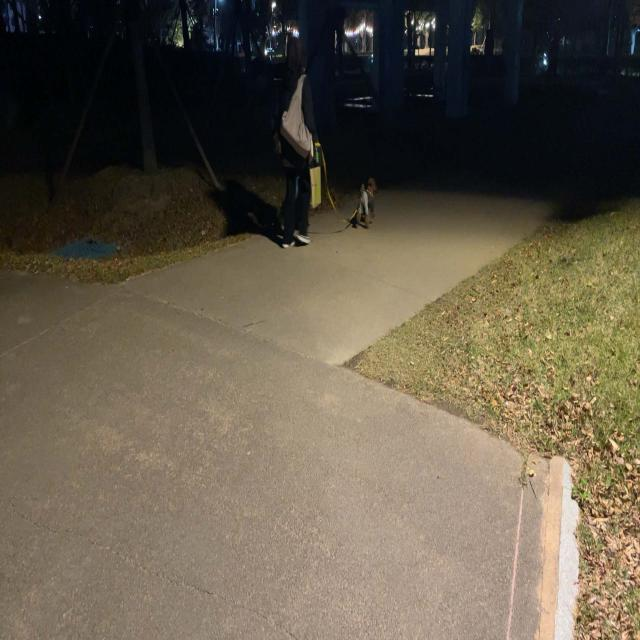Leashed_Dog: (301, 133, 378, 230)
